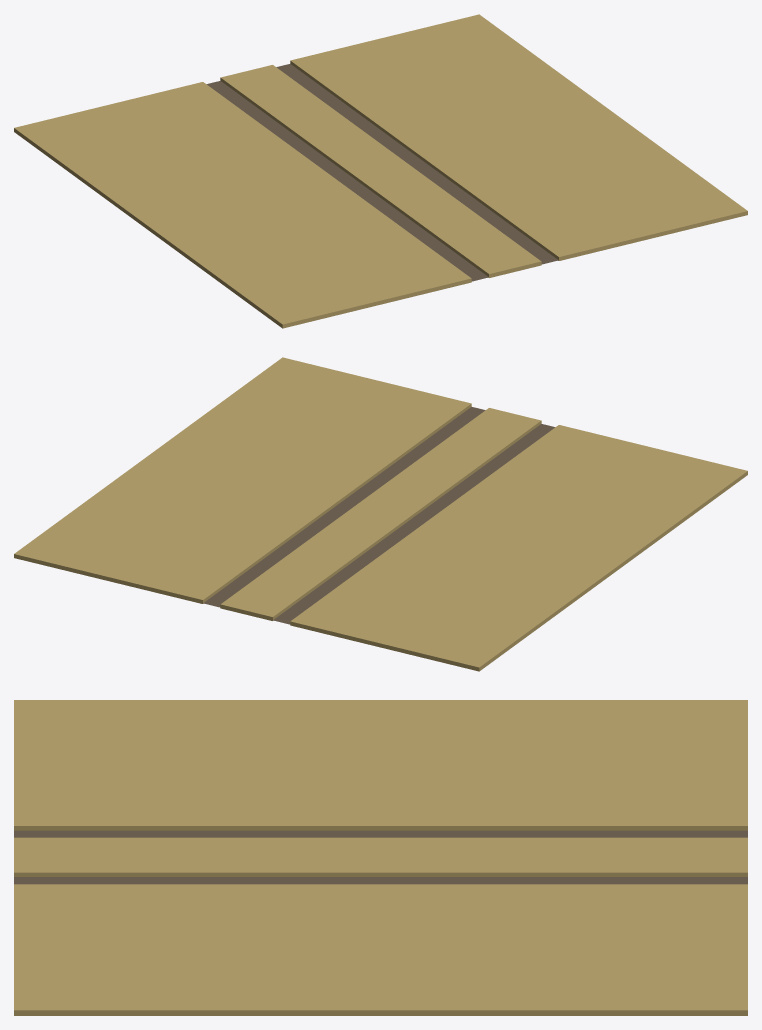
File: tile.fbx
3 views of the same model, one above another, from view 1: azimuth 30°, elevation 25°; view 2: azimuth 150°, elevation 25°; view 3: azimuth 270°, elevation 25° (orthographic). The views are drawn at different scales.
Visible parts, largest first — view 1: a1000/600/tile; view 2: a1000/600/tile; view 3: a1000/600/tile.
Boxes of the visible parts, left/top/right/bottom form: a1000/600/tile: left=14, top=14, right=747, bottom=328; a1000/600/tile: left=14, top=357, right=747, bottom=671; a1000/600/tile: left=14, top=700, right=747, bottom=1015.
Bounding box in the file's own units: 12 × 0.1 × 12.
